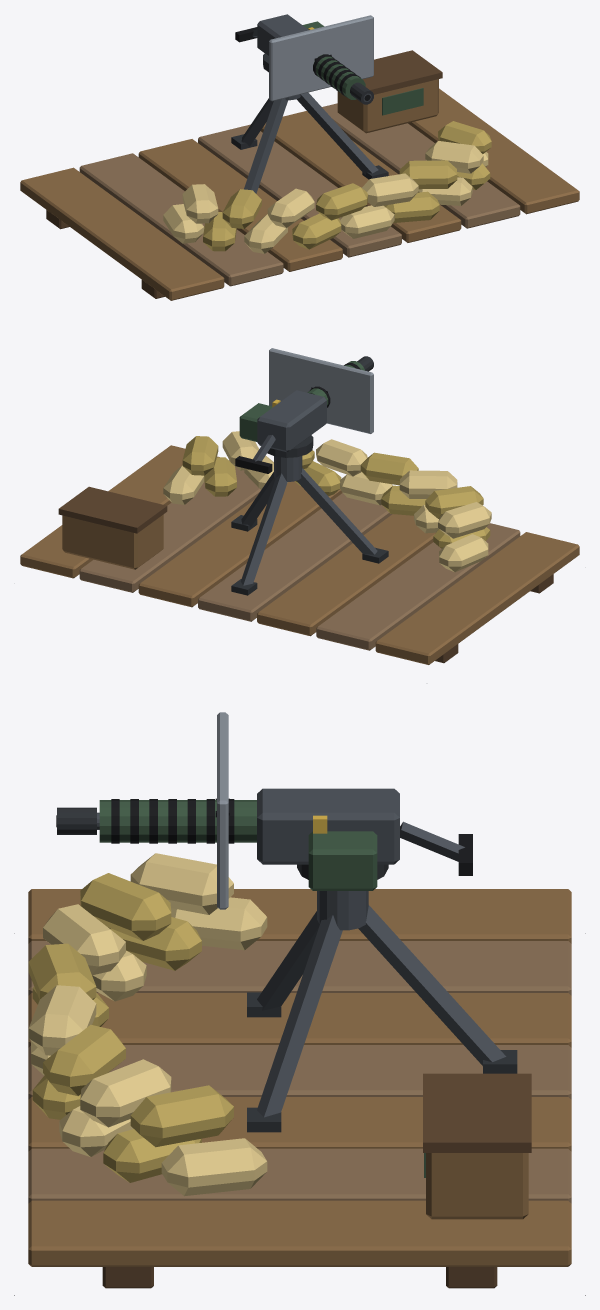
Rendered from tourelle_base.glb.
3 views of the same model, one above another, from view 1: azimuth 30°, elevation 25°; view 2: azimuth 150°, elevation 25°; view 3: azimuth 270°, elevation 25° (orthographic). The views are drawn at different scales.
Parts seen in each view (by area): view 1: pieces_bois.002, pieces_bois_sec.002, pieces_sable.002, pieces_herbe_seche.002, tourelle_acier.006, pieces_acier_sombre.008, pieces_bois_sombre.002, tourelle_acier_sombre.008, tourelle_noir.004, tourelle_vert_fonce.004, pieces_vert_fonce.004, tourelle_fonte.006 (+1 smaller); view 2: pieces_bois.002, pieces_bois_sec.002, pieces_sable.002, pieces_herbe_seche.002, tourelle_acier.006, pieces_acier_sombre.008, pieces_bois_sombre.002, tourelle_acier_sombre.008, tourelle_vert_fonce.004, pieces_fonte.008, tourelle_fonte.006, tourelle_noir.004; view 3: pieces_bois.002, pieces_bois_sec.002, pieces_sable.002, pieces_herbe_seche.002, pieces_acier_sombre.008, pieces_bois_sombre.002, tourelle_acier_sombre.008, tourelle_vert_fonce.004, tourelle_noir.004, tourelle_acier.006, pieces_fonte.008, tourelle_fonte.006.
Boxes of the visible parts, x1,y1,x2,y2 form: pieces_bois.002: (20, 79, 579, 300); pieces_bois_sec.002: (79, 103, 520, 286); pieces_sable.002: (163, 141, 488, 253); pieces_herbe_seche.002: (203, 121, 491, 251); tourelle_acier.006: (269, 15, 373, 101); pieces_acier_sombre.008: (241, 92, 378, 193); pieces_bois_sombre.002: (46, 50, 442, 298); tourelle_acier_sombre.008: (252, 14, 371, 101); tourelle_noir.004: (235, 27, 370, 100); tourelle_vert_fonce.004: (302, 21, 365, 99); pieces_vert_fonce.004: (382, 88, 423, 115); tourelle_fonte.006: (263, 53, 373, 104); pieces_bois.002: (20, 445, 579, 664); pieces_bois_sec.002: (79, 460, 520, 650); pieces_sable.002: (163, 431, 491, 572); pieces_herbe_seche.002: (182, 436, 490, 548); tourelle_acier.006: (269, 348, 373, 433); pieces_acier_sombre.008: (240, 456, 377, 585); pieces_bois_sombre.002: (58, 486, 553, 663); tourelle_acier_sombre.008: (253, 390, 326, 461); tourelle_vert_fonce.004: (239, 361, 364, 441); pieces_fonte.008: (231, 515, 388, 595); tourelle_fonte.006: (267, 356, 373, 457); tourelle_noir.004: (235, 363, 360, 473); pieces_bois.002: (28, 889, 571, 1266); pieces_bois_sec.002: (28, 941, 571, 1203); pieces_sable.002: (28, 853, 267, 1196); pieces_herbe_seche.002: (28, 873, 233, 1182); pieces_acier_sombre.008: (257, 891, 506, 1117); pieces_bois_sombre.002: (102, 1073, 531, 1288); tourelle_acier_sombre.008: (97, 788, 464, 864); tourelle_vert_fonce.004: (99, 800, 377, 890); tourelle_noir.004: (56, 798, 472, 875); tourelle_acier.006: (217, 712, 228, 909); pieces_fonte.008: (247, 992, 517, 1132); tourelle_fonte.006: (57, 807, 388, 879).
Size of the model in its own units: 1.5 by 0.69 by 1.
